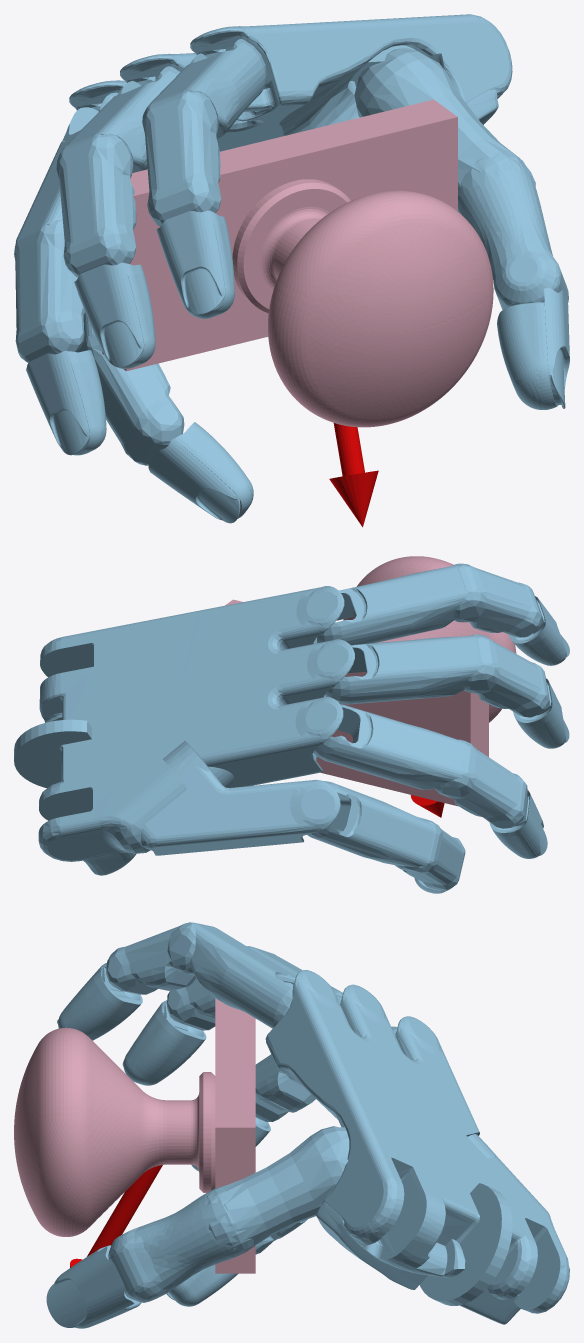
3 renders of one model, top to bottom at view 1: azimuth 30°, elevation 25°; view 2: azimuth 150°, elevation 25°; view 3: azimuth 270°, elevation 25°, orthographic. The views are drawn at different scales.
Visible parts, largest first — view 1: world, door_knob.stl; view 2: world, door_knob.stl; view 3: world, door_knob.stl.
Boxes of the visible parts, left/top/right/bottom form: world: left=14, top=14, right=569, bottom=527; door_knob.stl: left=102, top=99, right=493, bottom=427; world: left=14, top=563, right=569, bottom=893; door_knob.stl: left=225, top=556, right=516, bottom=806; world: left=46, top=922, right=569, bottom=1328; door_knob.stl: left=14, top=998, right=255, bottom=1273.
Bounding box in the file's own units: 0.1677 × 0.1253 × 0.1726.
